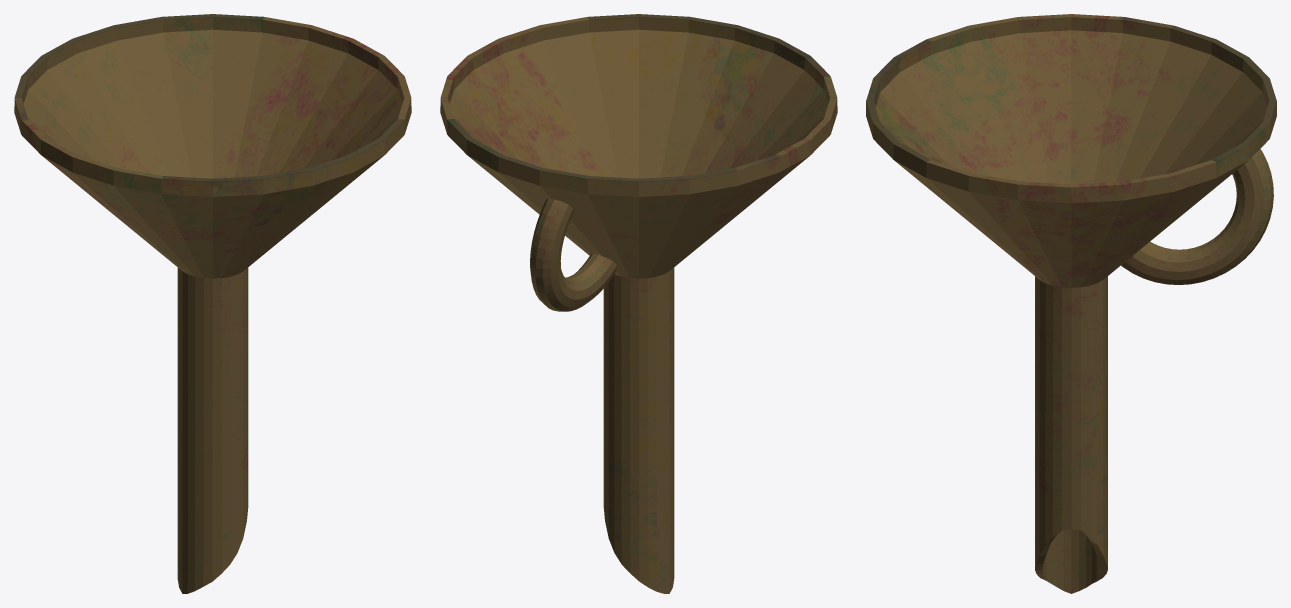
The model's file is Funnel.glb.
3 views of the same model, side by side, from view 1: azimuth 30°, elevation 25°; view 2: azimuth 150°, elevation 25°; view 3: azimuth 270°, elevation 25° (orthographic). The views are drawn at different scales.
Visible parts, largest first — view 1: Cirkel; view 2: Cirkel, Torus.002; view 3: Cirkel, Torus.002.
Boxes of the visible parts, bbox=[...] form: Cirkel: bbox=[14, 14, 411, 593]; Cirkel: bbox=[440, 14, 837, 593]; Torus.002: bbox=[530, 198, 617, 311]; Cirkel: bbox=[866, 14, 1276, 593]; Torus.002: bbox=[1121, 149, 1273, 284].
Bounding box in the file's own units: 14.11 × 19.16 × 14.11.
2 materials, 2 textured.
